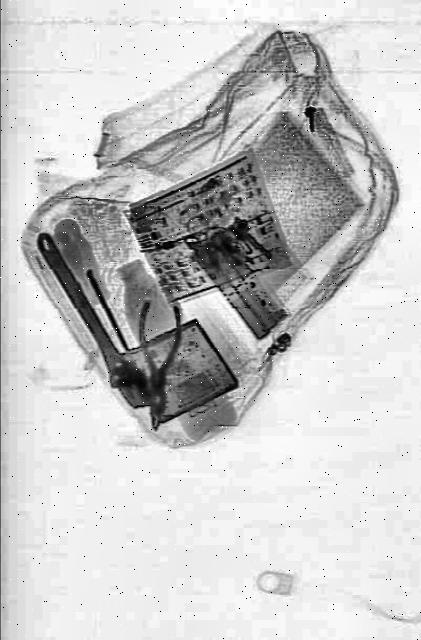Pliers: (132, 299, 180, 431)
Wrench: (25, 215, 155, 418)
